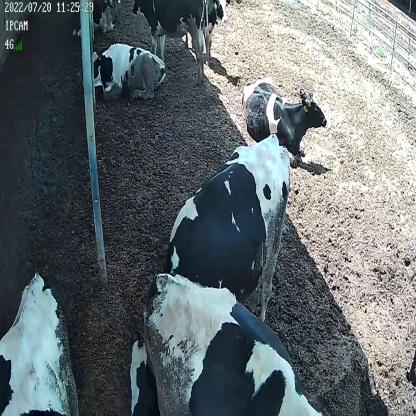cow: (128, 132, 292, 414), (241, 73, 327, 160), (132, 0, 209, 90), (85, 39, 166, 103)
